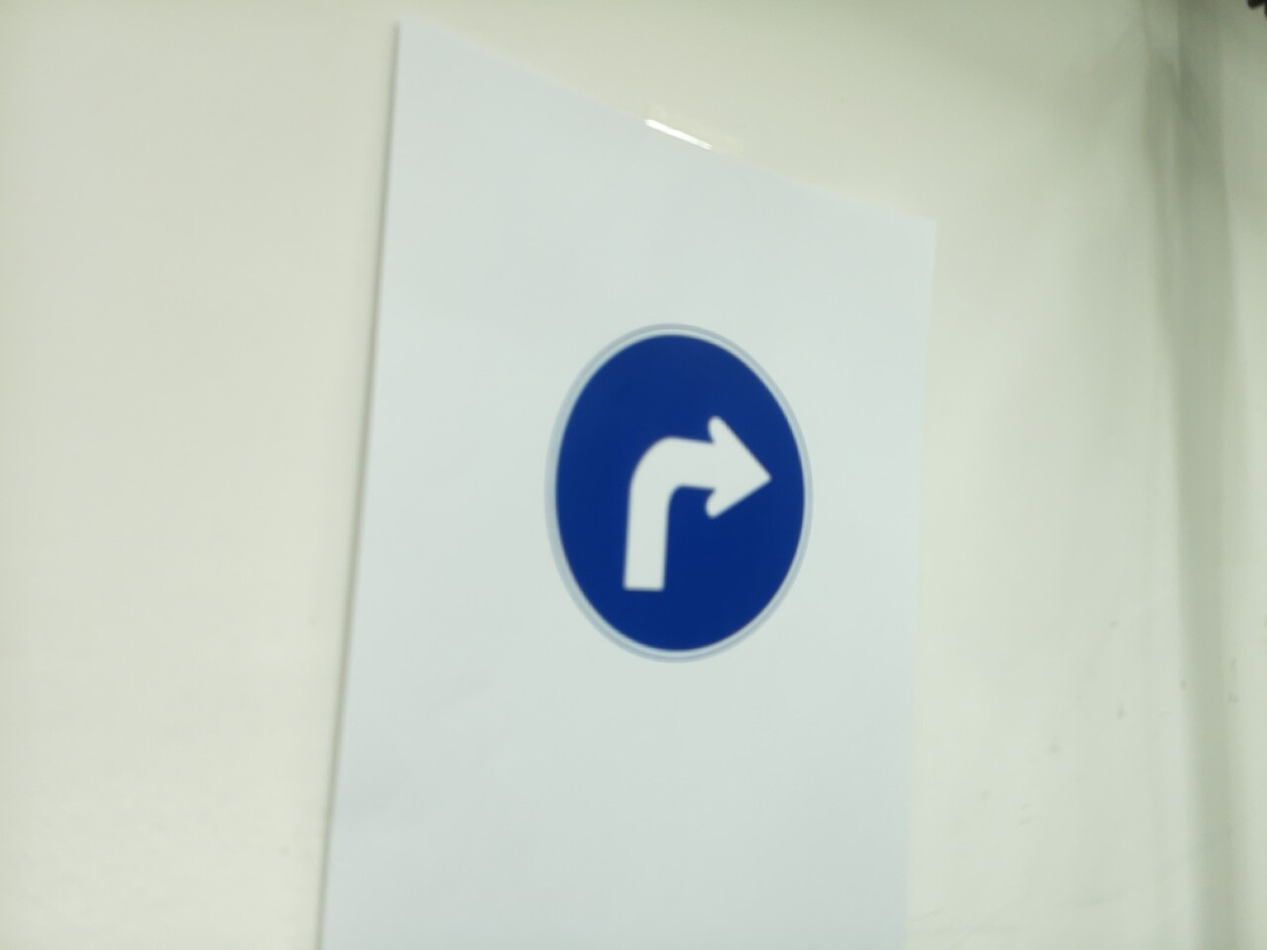right_turn: (546, 325, 814, 661)
